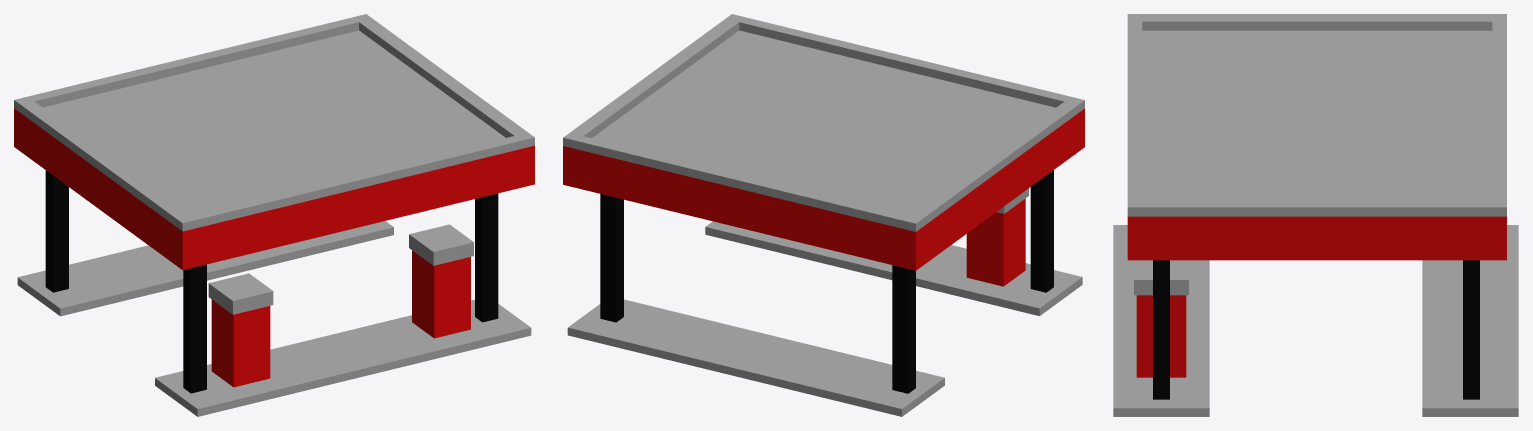
Rendered from GasStation.fbx.
3 views of the same model, side by side, from view 1: azimuth 30°, elevation 25°; view 2: azimuth 150°, elevation 25°; view 3: azimuth 270°, elevation 25° (orthographic). The views are drawn at different scales.
Parts seen in each view (by area): view 1: pCube382, pCube387, pCube388, pCube389, pCube390, pCube383, pCube384, pCube385; view 2: pCube382, pCube388, pCube387, pCube389, pCube385, pCube386, pCube384; view 3: pCube382, pCube388, pCube387, pCube390, pCube386, pCube383.
Part boxes in pixels (x1,y1,x2,y2): pCube382: (14, 14, 534, 270); pCube387: (155, 299, 531, 416); pCube388: (17, 221, 393, 316); pCube389: (208, 273, 273, 387); pCube390: (409, 224, 473, 338); pCube383: (475, 193, 498, 322); pCube384: (183, 264, 206, 393); pCube385: (45, 170, 68, 292); pCube382: (563, 14, 1084, 270); pCube388: (567, 299, 944, 416); pCube387: (705, 221, 1082, 315); pCube389: (966, 188, 1028, 286); pCube385: (892, 265, 915, 393); pCube386: (600, 194, 623, 322); pCube384: (1030, 170, 1053, 292); pCube382: (1127, 14, 1506, 260); pCube388: (1422, 225, 1518, 416); pCube387: (1113, 225, 1209, 416); pCube390: (1134, 260, 1188, 377); pCube386: (1463, 260, 1479, 399); pCube383: (1153, 260, 1169, 399).
Size of the model in its own units: 173 by 89.71 by 153.
